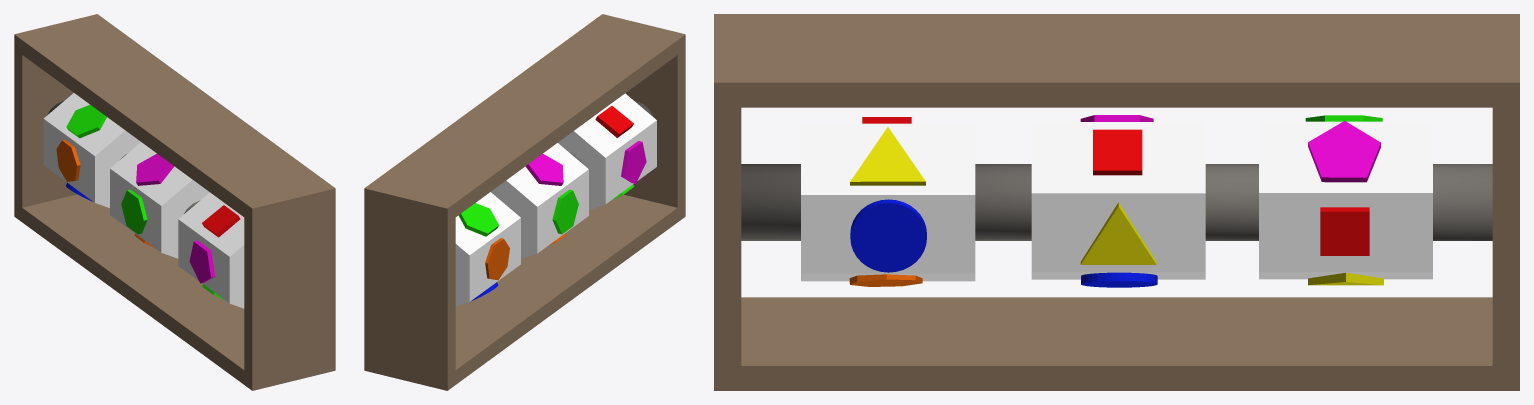
Rendered from Roleta.fbx.
The picture shows the model from 3 angles, left to right: view 1: azimuth 30°, elevation 25°; view 2: azimuth 150°, elevation 25°; view 3: azimuth 270°, elevation 25°; orthographic projection. The views are drawn at different scales.
Parts seen in each view (by area): view 1: Cube, Circle.001, Circle.002, Circle; view 2: Cube, Circle, Circle.001, Circle.002; view 3: Cube, Circle.001, Circle.002, Circle, Cube.001.
Boxes of the visible parts, box(x1,y1,x2,y2) form: Cube: box(14, 14, 335, 390); Circle.001: box(110, 142, 209, 258); Circle.002: box(43, 93, 140, 207); Circle: box(178, 192, 244, 308); Cube: box(364, 14, 685, 390); Circle: box(558, 93, 656, 210); Circle.001: box(491, 143, 588, 259); Circle.002: box(455, 192, 520, 306); Cube: box(714, 14, 1519, 390); Circle.001: box(1031, 115, 1205, 287); Circle.002: box(1259, 115, 1432, 285); Circle: box(801, 117, 975, 286); Cube.001: box(741, 164, 1492, 240).
Bounding box in the file's own units: 442 × 886 × 2100.
